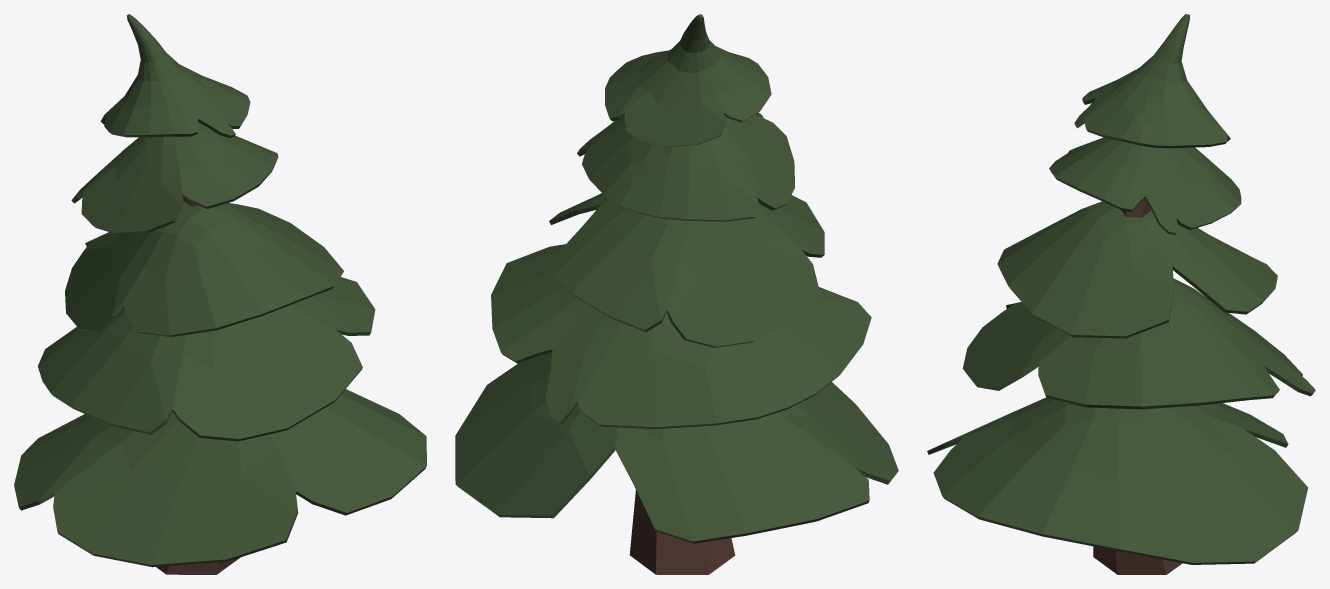
Rendered from PineTree_1.glb.
3 views of the same model, side by side, from view 1: azimuth 30°, elevation 25°; view 2: azimuth 150°, elevation 25°; view 3: azimuth 270°, elevation 25° (orthographic). The views are drawn at different scales.
Visible parts, largest first — view 1: PineTree_1; view 2: PineTree_1; view 3: PineTree_1.
Part boxes in pixels (<box>): PineTree_1: <box>14,14,426,574</box>; PineTree_1: <box>455,14,898,574</box>; PineTree_1: <box>927,14,1315,574</box>.
Size of the model in its own units: 1.96 by 2.7 by 1.82.
